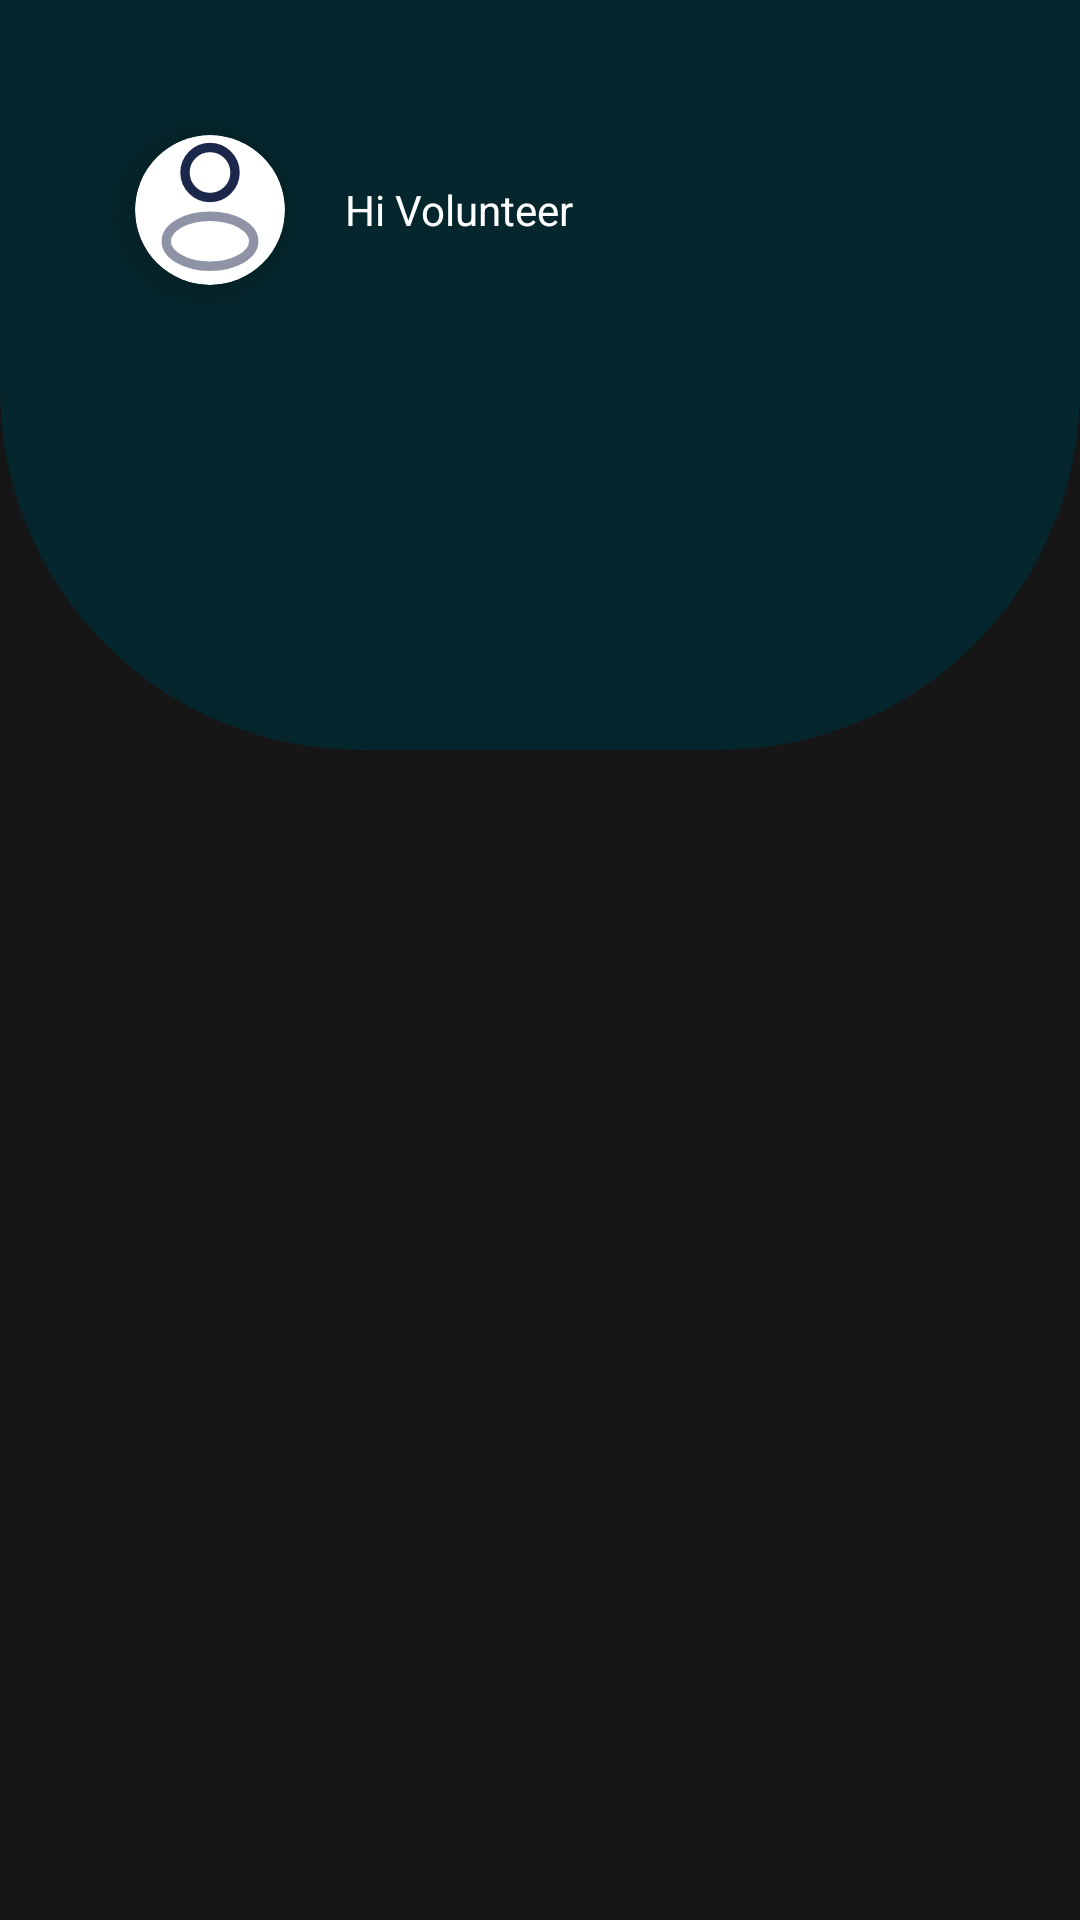

Icons on this 1080px×1920px Android screen, each with its box as (x1, y1, x2, y2):
user: (135, 135, 285, 285)
